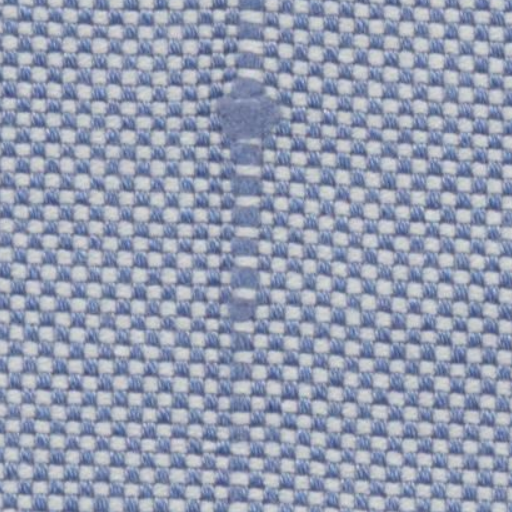DaiSha: (204, 10, 289, 395)
